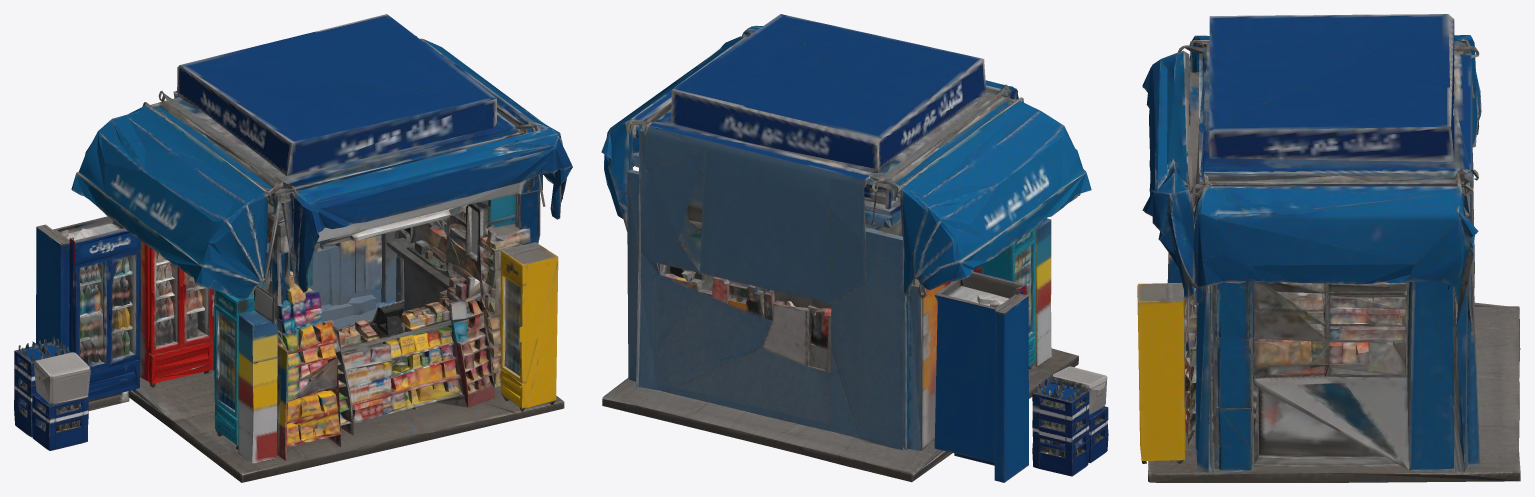
The model's file is kiosk.glb.
3 renders of one model, left to right at view 1: azimuth 30°, elevation 25°; view 2: azimuth 150°, elevation 25°; view 3: azimuth 270°, elevation 25°, orthographic. The views are drawn at different scales.
Size of the model in its own units: 1.9 by 1.22 by 1.26.
Materials: 1 (1 with a texture image).
